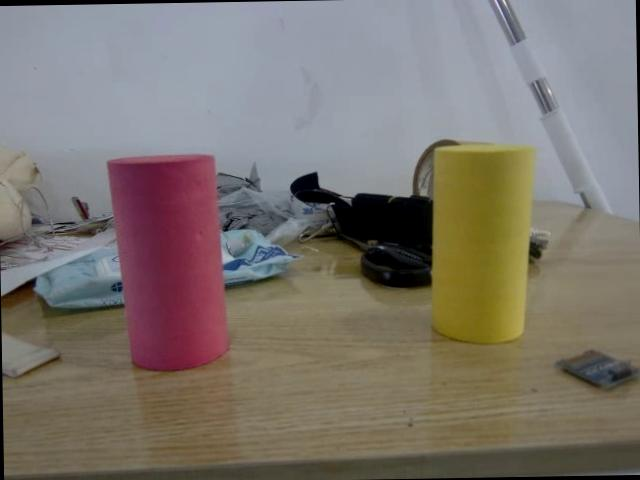red_cylinder: (106, 148, 240, 375)
yellow_cylinder: (426, 136, 534, 346)
